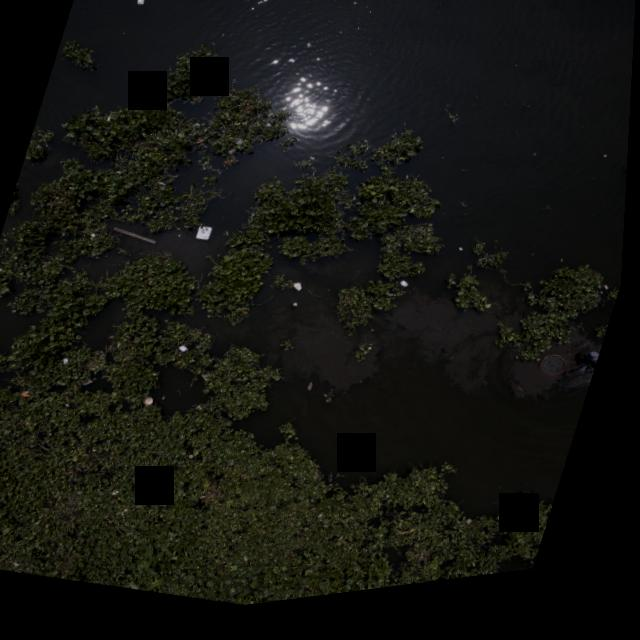plastic: (568, 343, 610, 408), (533, 356, 579, 404), (184, 218, 223, 257), (500, 523, 518, 542), (61, 355, 79, 374), (292, 284, 309, 303), (143, 398, 161, 415), (398, 286, 415, 303), (178, 346, 195, 361), (306, 386, 319, 405), (290, 306, 305, 319), (132, 0, 147, 12), (113, 490, 126, 502)
